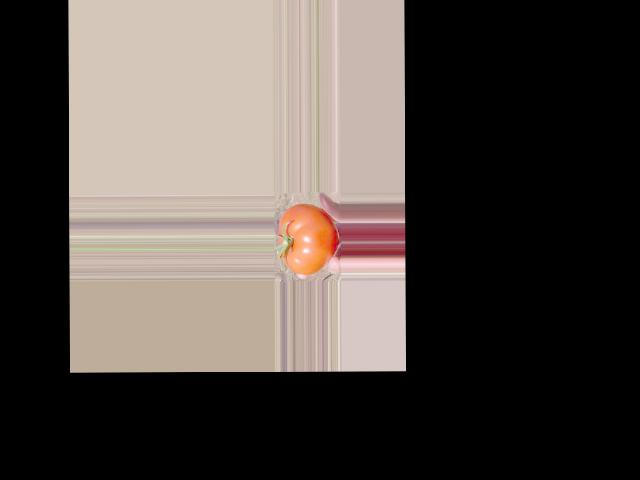tomato: (278, 205, 338, 275)
